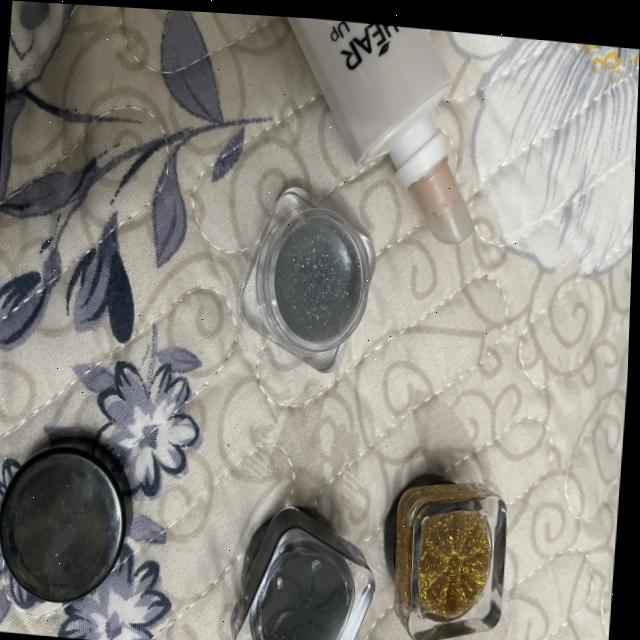concealer: (363, 19, 501, 270)
eye shade: (0, 421, 164, 623), (230, 170, 386, 376), (380, 456, 529, 640), (217, 487, 393, 640)
